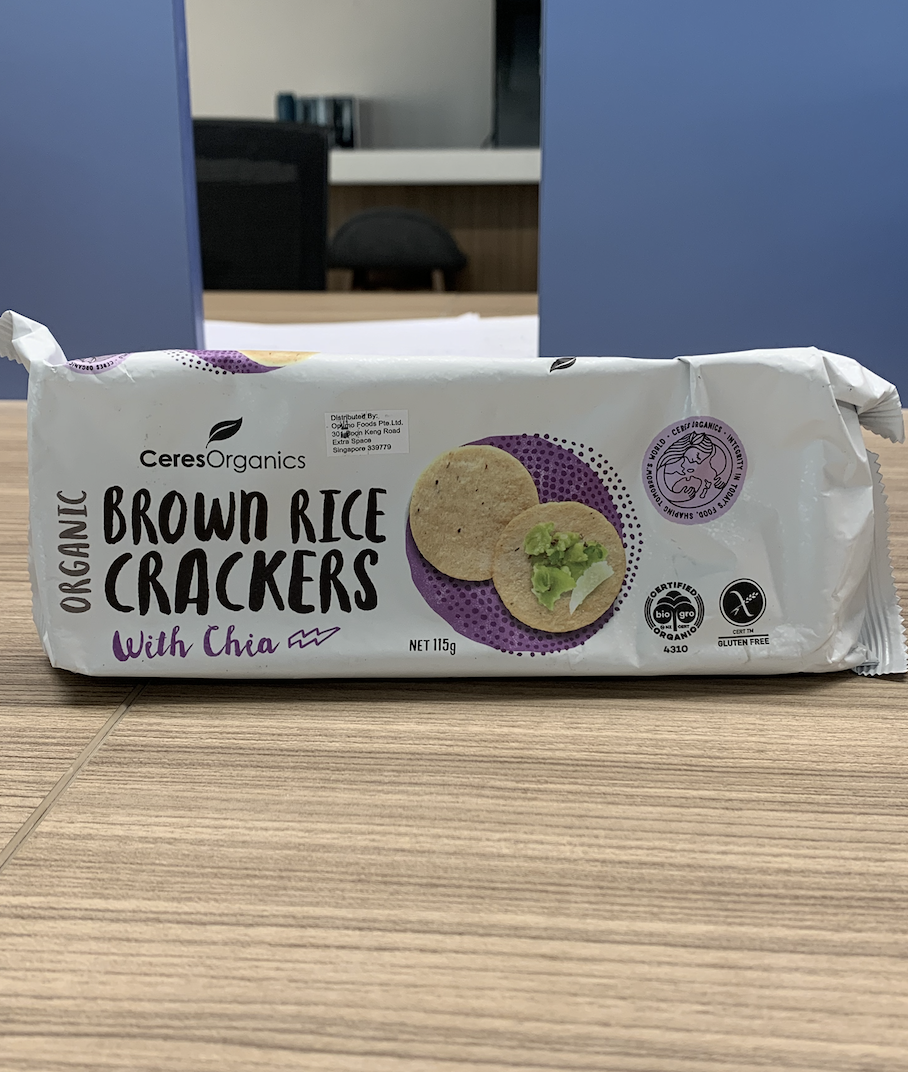crackers_100g-199g: (45, 373, 838, 673)
